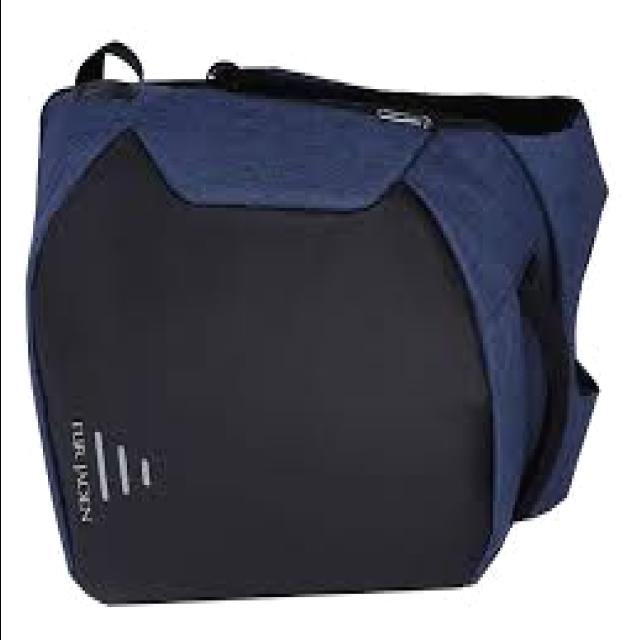backpack: (29, 41, 612, 609)
